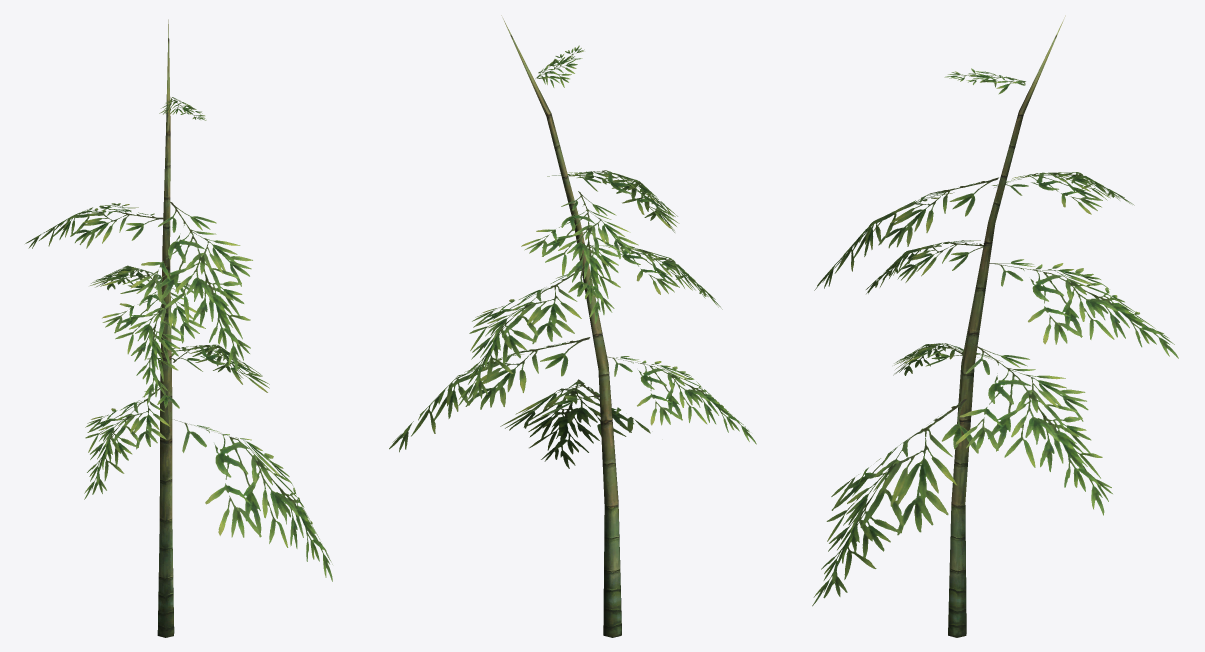
The model's file is C5_BamBoo_1.FBX.
3 renders of one model, left to right at view 1: azimuth 30°, elevation 25°; view 2: azimuth 150°, elevation 25°; view 3: azimuth 270°, elevation 25°, orthographic. The views are drawn at different scales.
Parts seen in each view (by area): view 1: C5_BamBoo_1; view 2: C5_BamBoo_1; view 3: C5_BamBoo_1.
Part boxes in pixels (bbox=[...]): C5_BamBoo_1: bbox=[25, 19, 332, 637]; C5_BamBoo_1: bbox=[389, 15, 756, 637]; C5_BamBoo_1: bbox=[812, 15, 1178, 637].
Bounding box in the file's own units: 312 × 682 × 379.
